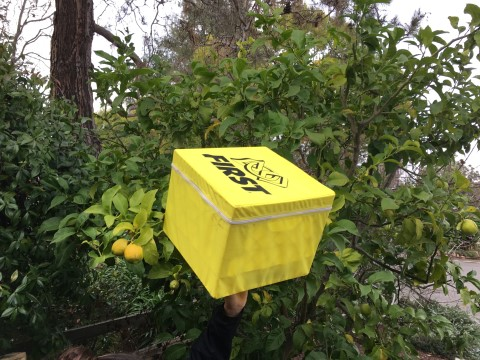cube: (162, 145, 335, 301)
